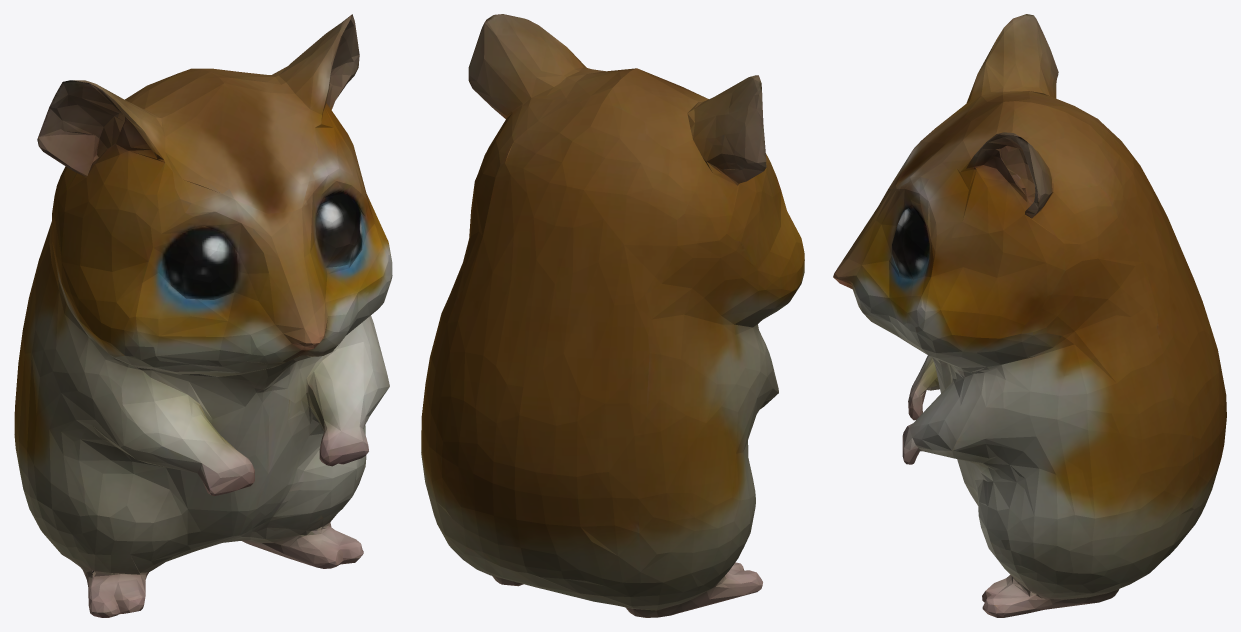
Rendered from m-hamster.glb.
3 views of the same model, side by side, from view 1: azimuth 30°, elevation 25°; view 2: azimuth 150°, elevation 25°; view 3: azimuth 270°, elevation 25° (orthographic). The views are drawn at different scales.
Parts seen in each view (by area): view 1: geometry_0; view 2: geometry_0; view 3: geometry_0.
Part boxes in pixels (bbox=[...]): geometry_0: bbox=[14, 14, 392, 617]; geometry_0: bbox=[421, 14, 804, 617]; geometry_0: bbox=[833, 14, 1226, 617].
Size of the model in its own units: 0.6326 by 0.9986 by 0.7317.
Materials: 1 (1 with a texture image).
